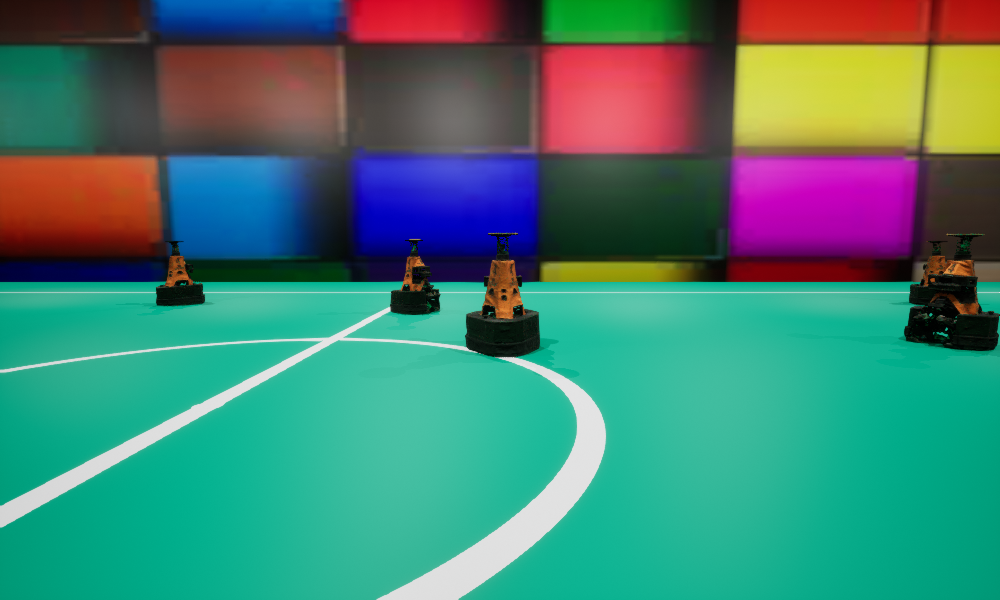0 orange robot TechUnited: (904, 233, 999, 349), (465, 233, 539, 356), (390, 239, 440, 314), (156, 241, 204, 305), (909, 241, 947, 305)
